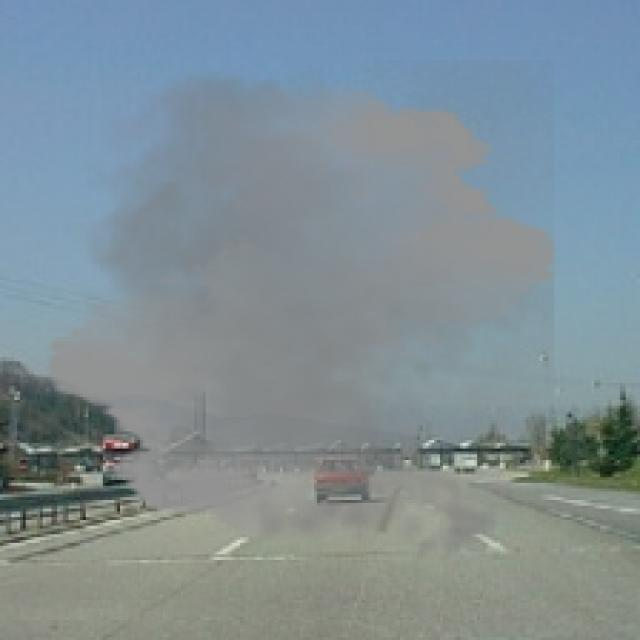smoke: (29, 60, 574, 574)
